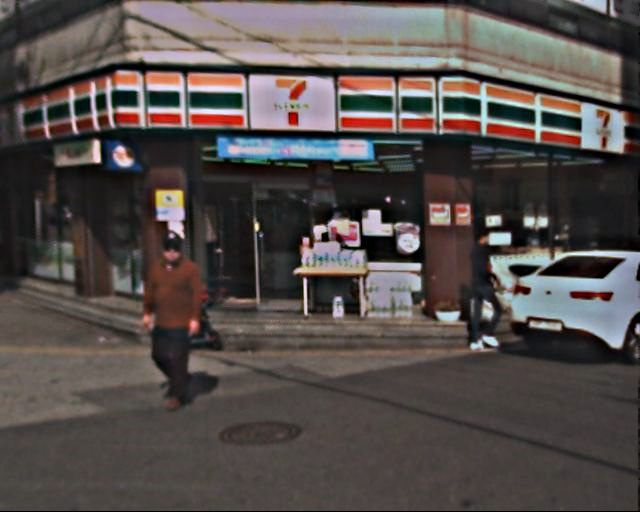person: (138, 233, 218, 410), (459, 224, 519, 352)
